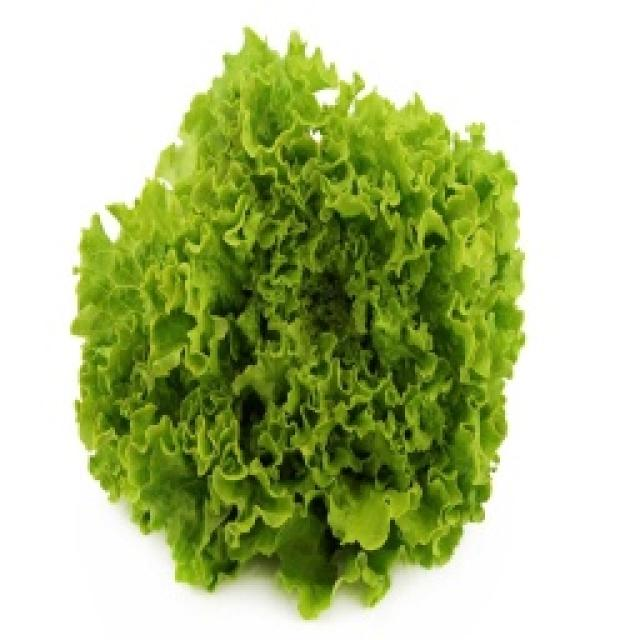Lettuce: (113, 71, 565, 570)
